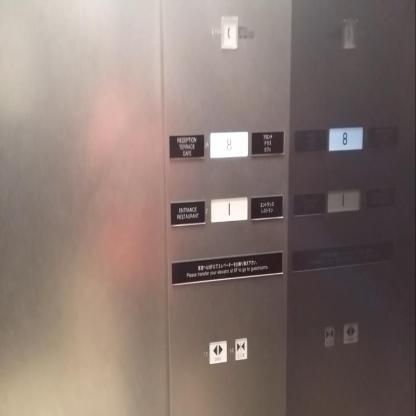1: (210, 195, 249, 224), (327, 188, 361, 212)
8: (209, 129, 249, 159), (328, 125, 363, 151)
call: (220, 15, 238, 49), (341, 17, 358, 50)
close: (234, 335, 248, 361), (323, 324, 335, 347)
open: (208, 339, 227, 365), (341, 320, 359, 346)
